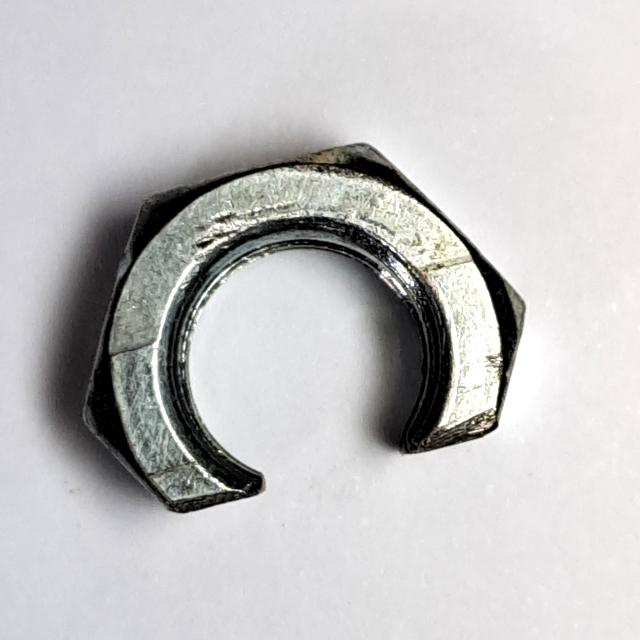Fracture: (66, 124, 539, 534)
